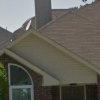Chimney: (26, 1, 55, 33)
